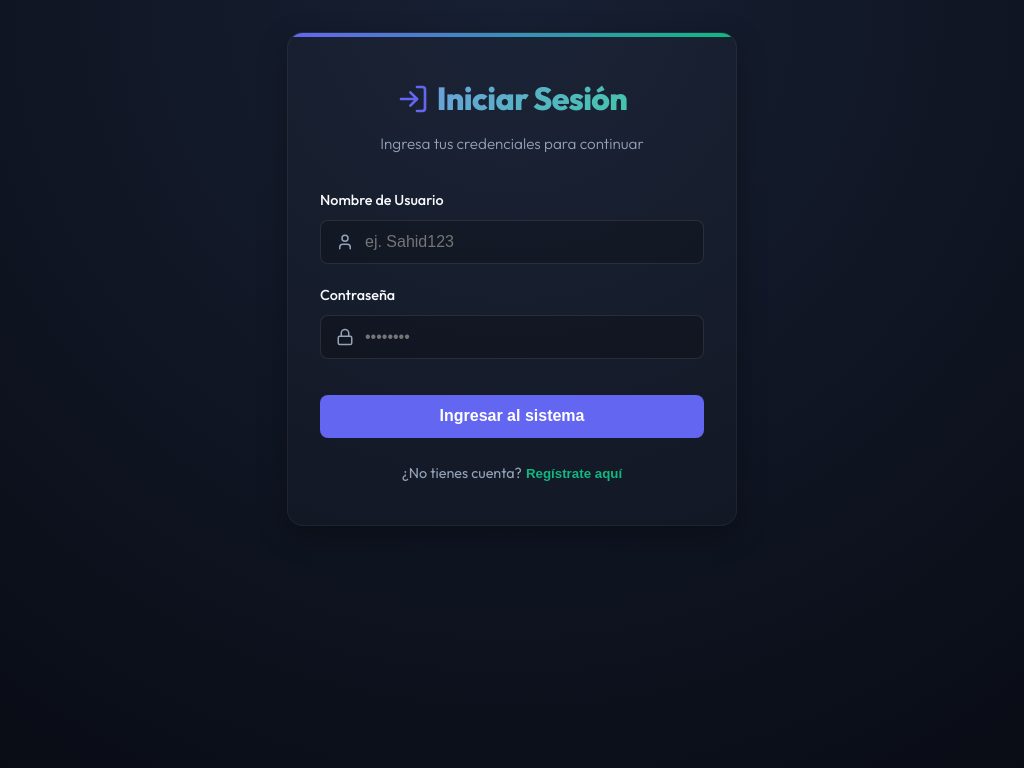
it: Componente Login › permite cambiar a la vista de registro
Buscar y clickear el botón de cambiar vista
Step 1. Click the button "Regístrate aquí" → (574, 474), box [526,466,622,481]
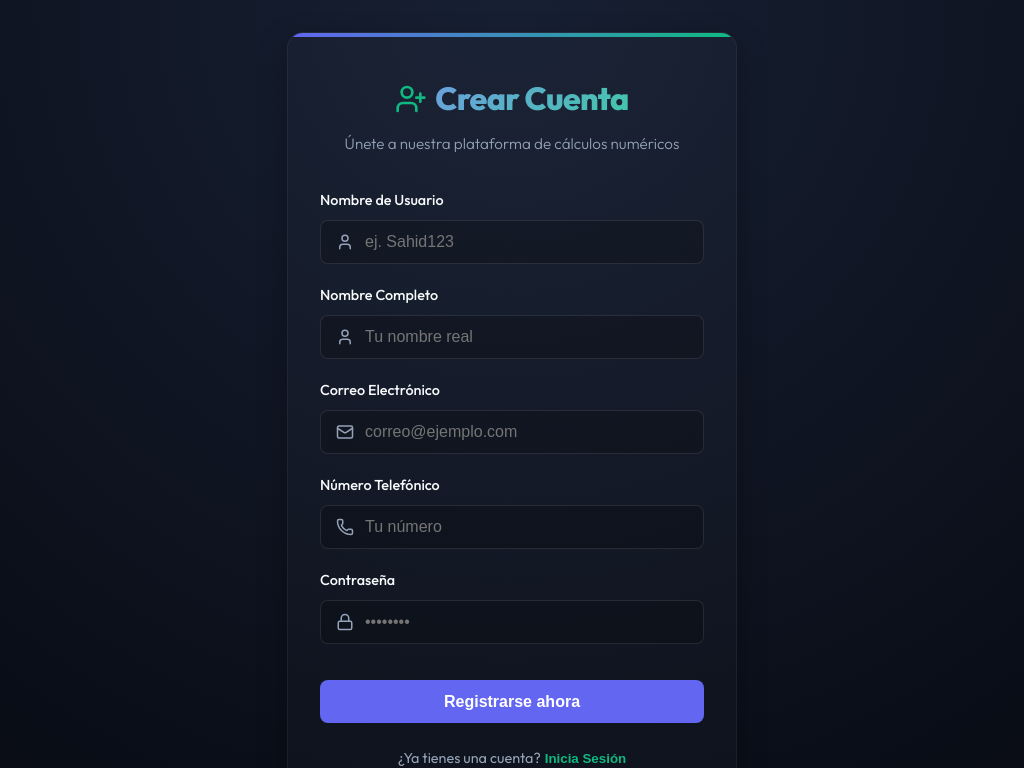
Check: the heading "Crear Cuenta" is shown, box [320,73,704,124]
Check: the field with placeholder "correo@ejemplo.com" is shown, box [320,410,704,454]
